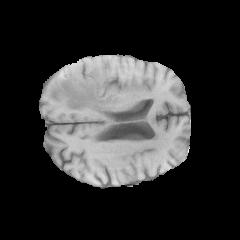glioma: (46, 57, 117, 110)
